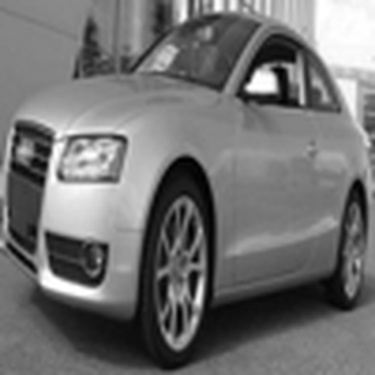car: (1, 14, 363, 355)
